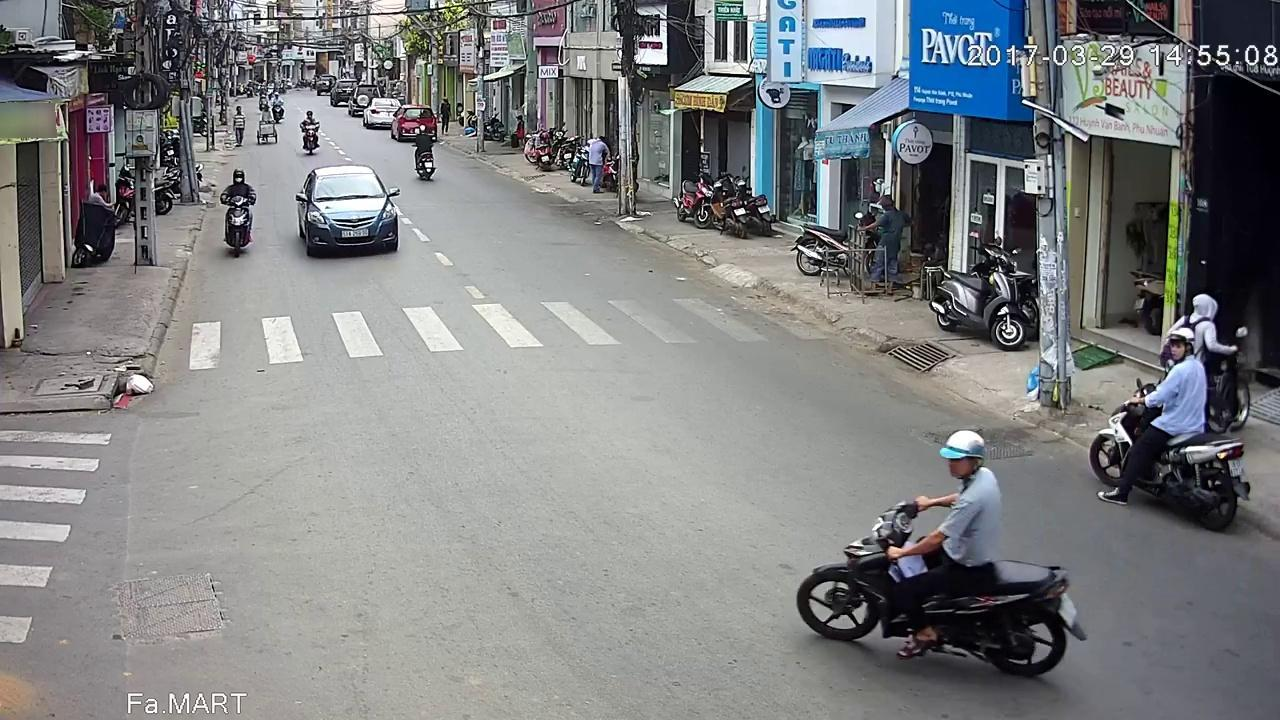xe hoi: (298, 153, 404, 247), (388, 104, 435, 140)
xe may: (795, 458, 1087, 706), (1093, 320, 1254, 525), (216, 162, 253, 254), (411, 131, 437, 188), (300, 111, 322, 156)
